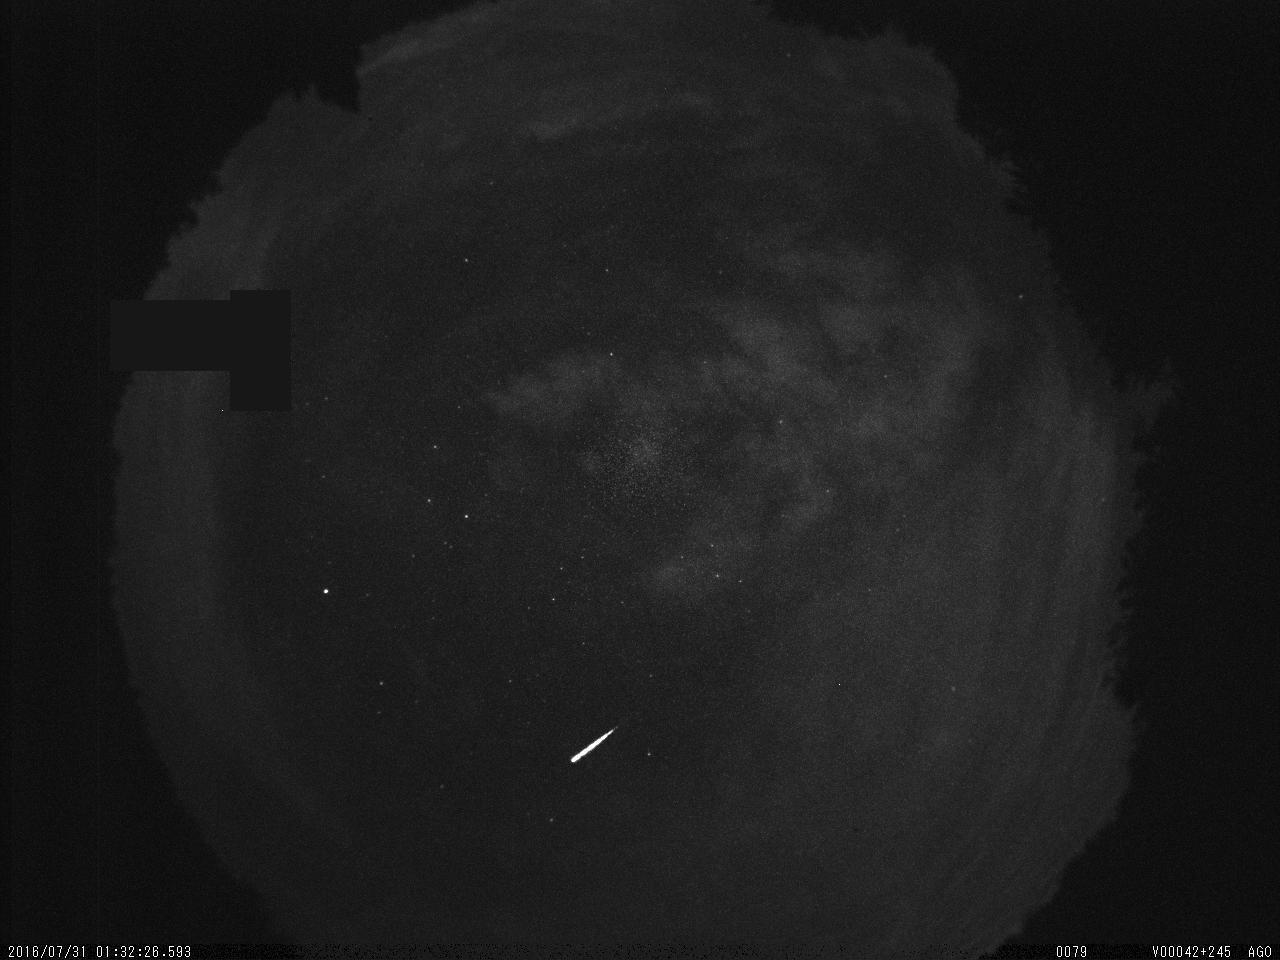meteor: (561, 715, 629, 775)
